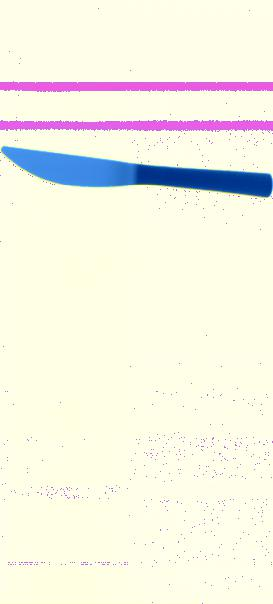Knife: (2, 144, 273, 199)
